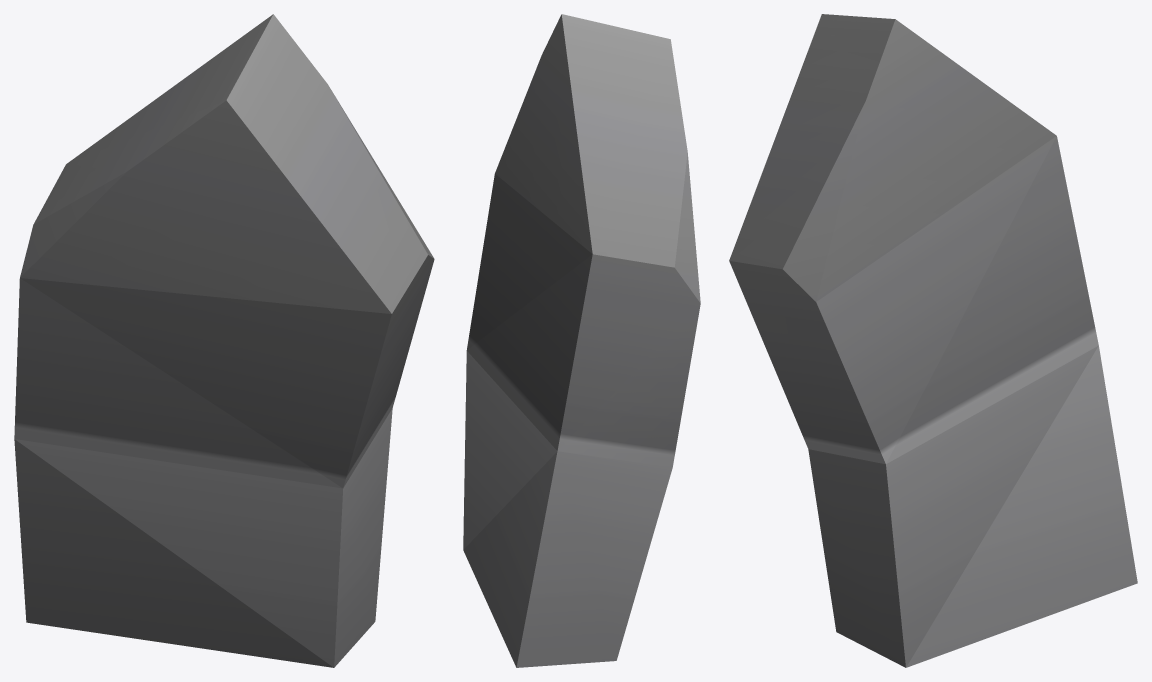
The model's file is ea_grave_stone_mini_01c_pre_1_lev1.glb.
3 renders of one model, left to right at view 1: azimuth 30°, elevation 25°; view 2: azimuth 150°, elevation 25°; view 3: azimuth 270°, elevation 25°, orthographic. The views are drawn at different scales.
Visible parts, largest first — view 1: ea_grave_stone_mini_01c_pre_1_lev1; view 2: ea_grave_stone_mini_01c_pre_1_lev1; view 3: ea_grave_stone_mini_01c_pre_1_lev1.
Boxes of the visible parts, bbox=[...] form: ea_grave_stone_mini_01c_pre_1_lev1: bbox=[14, 14, 434, 667]; ea_grave_stone_mini_01c_pre_1_lev1: bbox=[463, 14, 700, 667]; ea_grave_stone_mini_01c_pre_1_lev1: bbox=[729, 14, 1137, 667].
Bounding box in the file's own units: 0.5314 × 0.9949 × 0.6147.
1 material, 1 textured.
